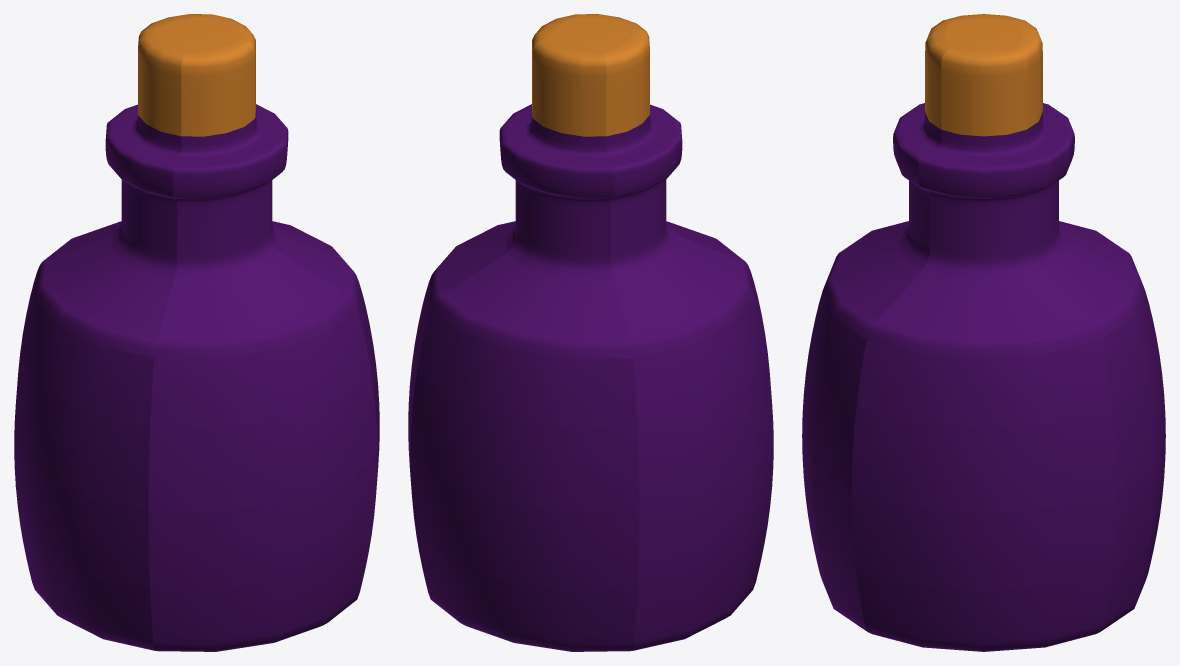
The model's file is Prop_Laboratorio_botella2.fbx.
3 renders of one model, left to right at view 1: azimuth 30°, elevation 25°; view 2: azimuth 150°, elevation 25°; view 3: azimuth 270°, elevation 25°, orthographic.
Parts seen in each view (by area): view 1: Botella4.012; view 2: Botella4.012; view 3: Botella4.012.
Part boxes in pixels (box(x1,y1,x2,y2)): Botella4.012: box(14, 14, 379, 651); Botella4.012: box(408, 14, 773, 651); Botella4.012: box(802, 14, 1165, 651).
Size of the model in its own units: 212 by 360 by 212.
